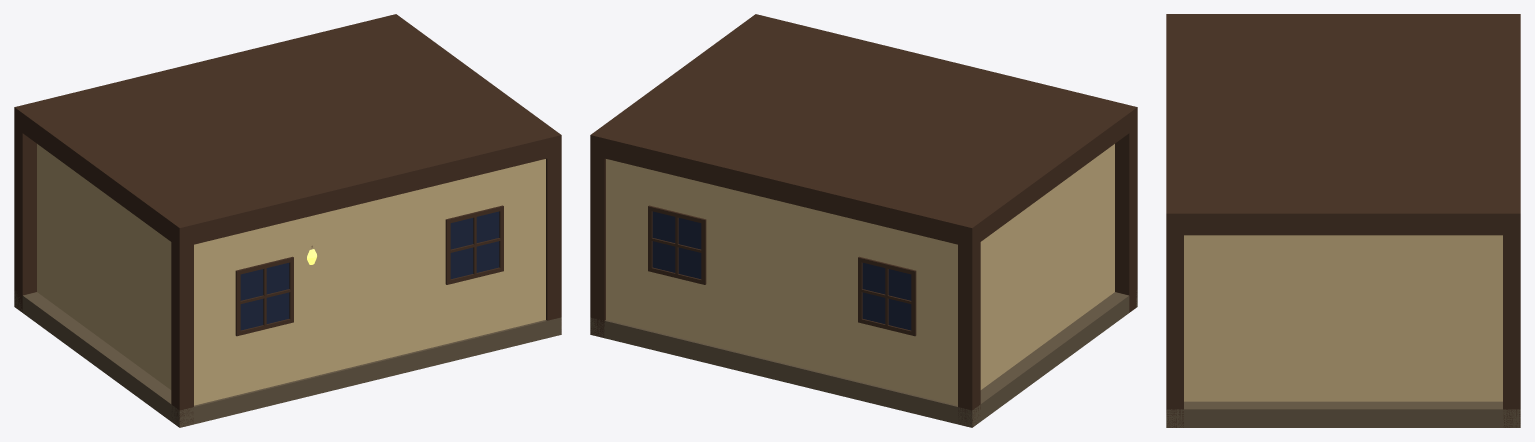
Rendered from env_house_shop_body.glb.
3 views of the same model, side by side, from view 1: azimuth 30°, elevation 25°; view 2: azimuth 150°, elevation 25°; view 3: azimuth 270°, elevation 25° (orthographic). The views are drawn at different scales.
Visible parts, largest first — view 1: ENV_House_Shop_Body; view 2: ENV_House_Shop_Body; view 3: ENV_House_Shop_Body.
Boxes of the visible parts, x1,y1,x2,y2 form: ENV_House_Shop_Body: (14,14,561,427); ENV_House_Shop_Body: (590,14,1137,427); ENV_House_Shop_Body: (1166,14,1520,427).
Bounding box in the file's own units: 8 × 4 × 6.
